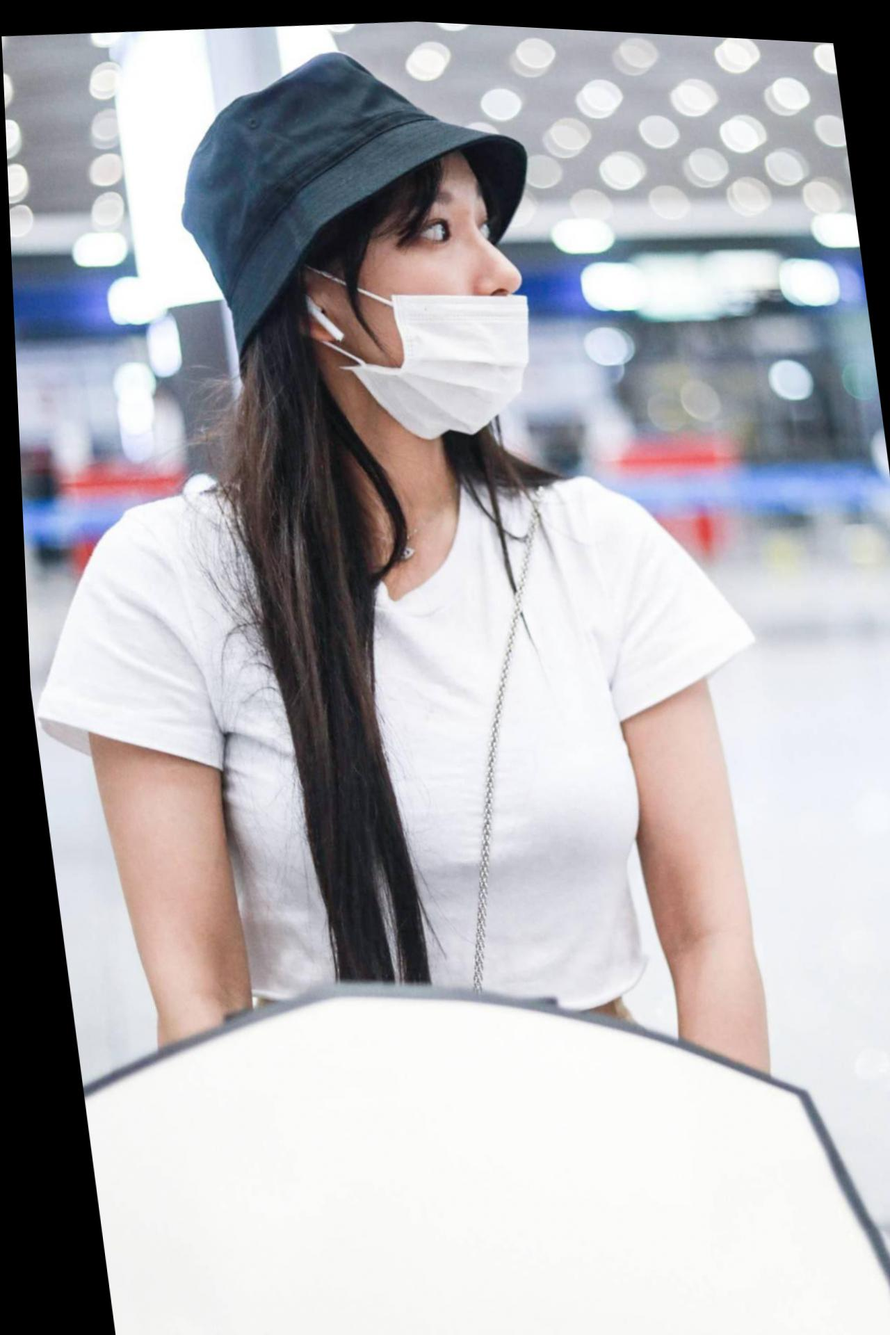WRONG: (338, 150, 540, 444)
